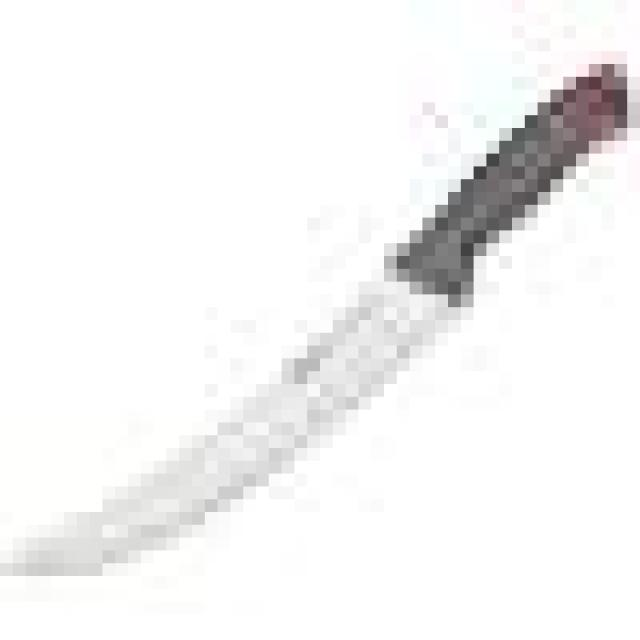knife: (1, 39, 632, 640)
